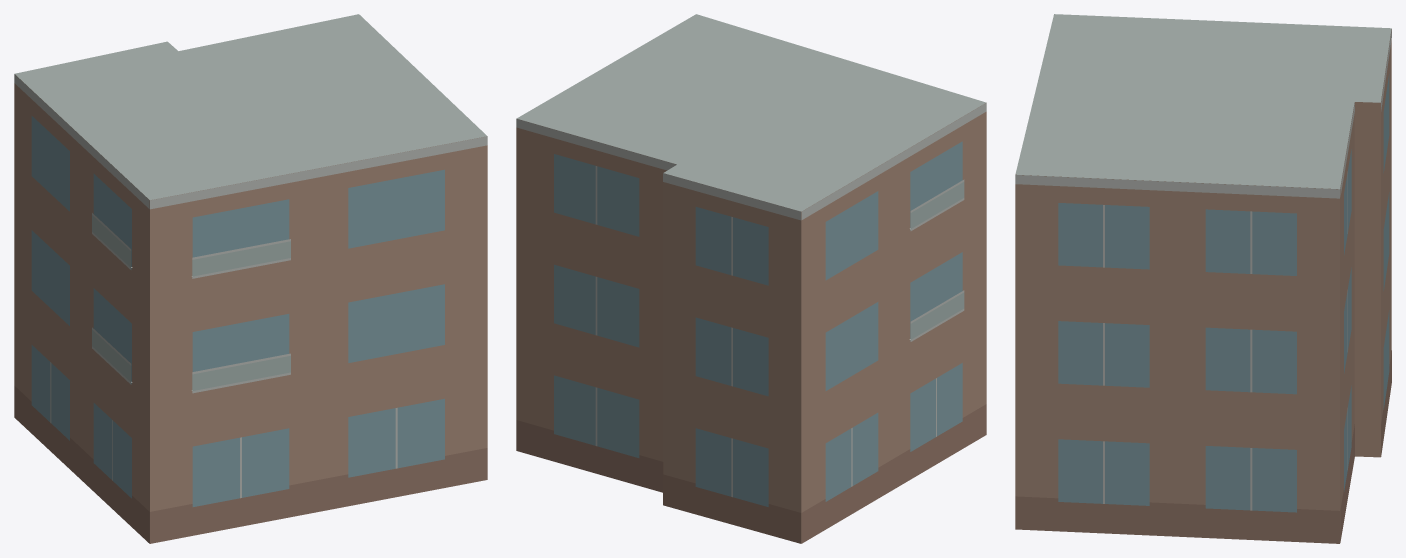
The model's file is survey-upis-32924732.glb.
3 renders of one model, left to right at view 1: azimuth 30°, elevation 25°; view 2: azimuth 150°, elevation 25°; view 3: azimuth 270°, elevation 25°, orthographic. The views are drawn at different scales.
Visible parts, largest first — view 1: survey-upis-32924732.tmp; view 2: survey-upis-32924732.tmp; view 3: survey-upis-32924732.tmp.
Part boxes in pixels (x1=…): survey-upis-32924732.tmp: x1=14, y1=14, x2=487, y2=543; survey-upis-32924732.tmp: x1=516, y1=14, x2=986, y2=543; survey-upis-32924732.tmp: x1=1015, y1=14, x2=1391, y2=543.
Bounding box in the file's own units: 9.7 × 9.15 × 8.81.
